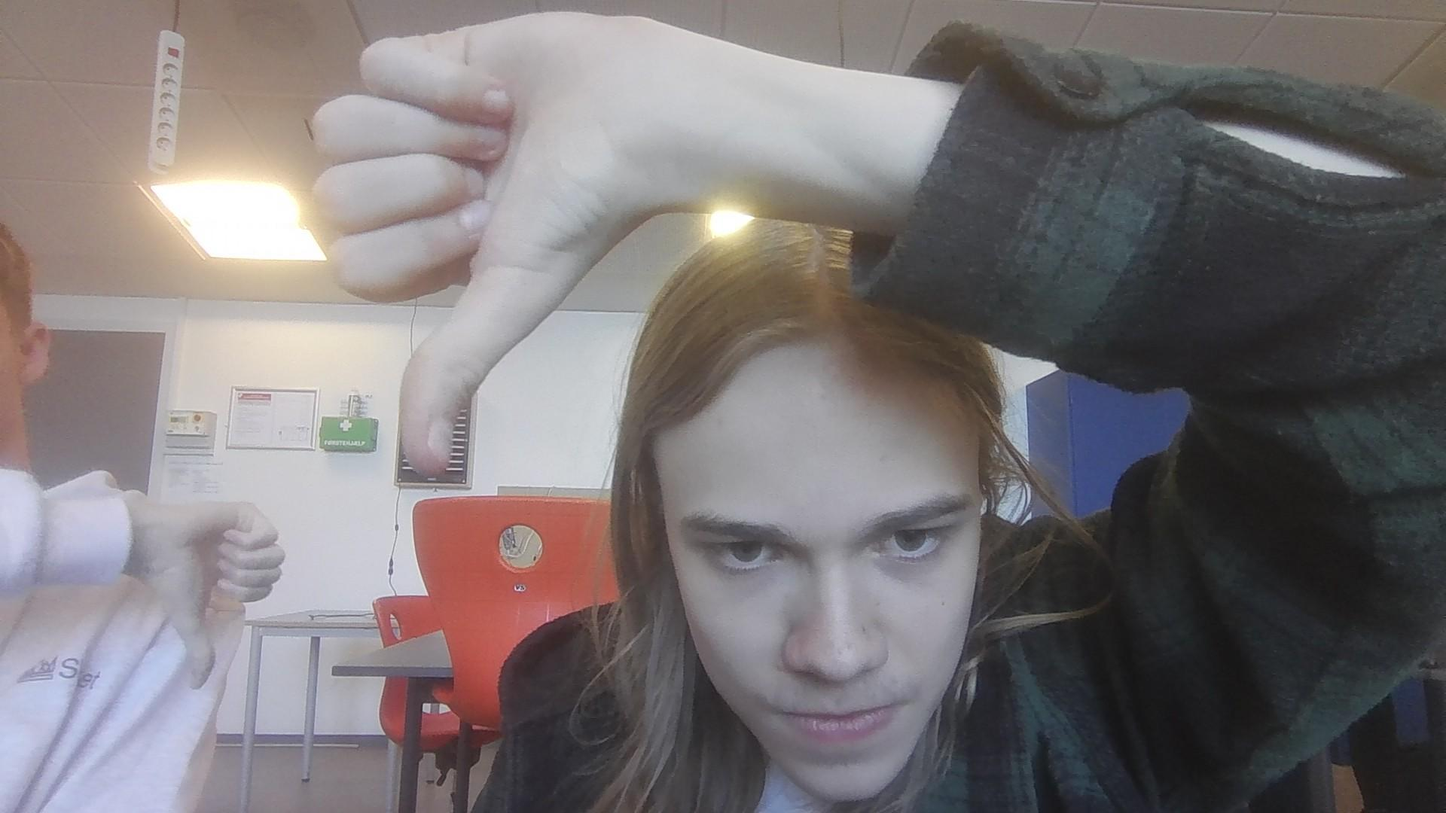thumbs down: (311, 6, 668, 482)
